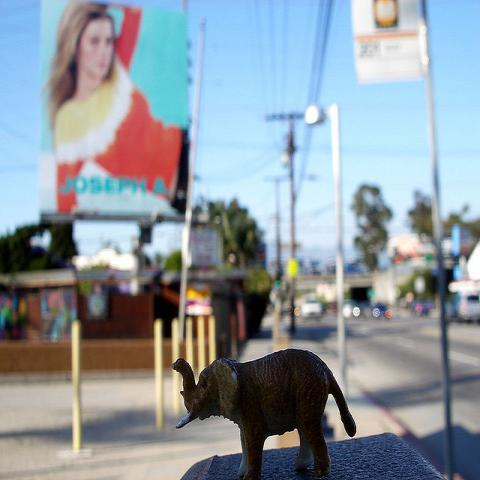car: (456, 291, 479, 324), (301, 292, 323, 323), (411, 298, 436, 317), (371, 302, 394, 318), (343, 299, 361, 318)
